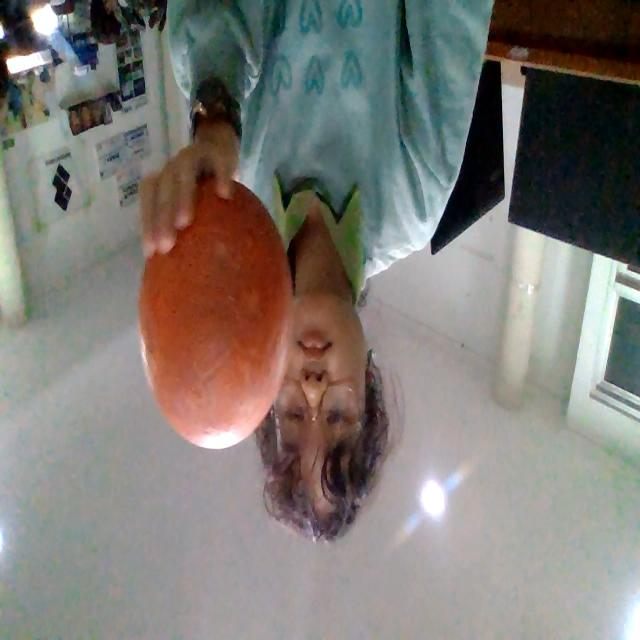ball: (138, 181, 288, 450)
